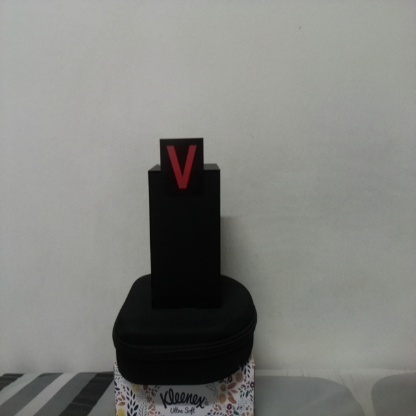id_11: (160, 139, 203, 199)
